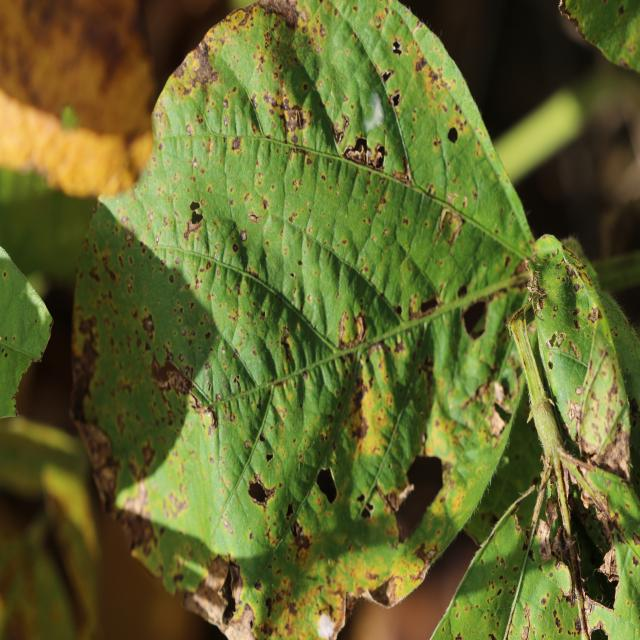Bacterial_Blight: (145, 353, 197, 409), (464, 287, 514, 341), (591, 421, 632, 484), (75, 418, 114, 474), (115, 503, 154, 552), (218, 557, 242, 627), (249, 1, 302, 32), (533, 506, 561, 564), (343, 135, 384, 170), (322, 592, 353, 637), (366, 574, 403, 609), (434, 206, 461, 248), (161, 485, 190, 521), (338, 314, 366, 351), (191, 45, 216, 85), (247, 475, 277, 508), (531, 233, 565, 261), (557, 0, 582, 38), (281, 100, 306, 137), (315, 466, 338, 504), (289, 519, 311, 558), (527, 395, 556, 423), (598, 544, 619, 582), (376, 483, 401, 514), (413, 542, 439, 568), (488, 404, 507, 438), (279, 329, 295, 366), (334, 114, 351, 146), (520, 601, 533, 640), (418, 294, 439, 317), (184, 217, 204, 240), (140, 439, 156, 467), (358, 493, 375, 519), (566, 399, 582, 424), (492, 381, 507, 406), (141, 313, 155, 339), (547, 331, 566, 349), (590, 618, 607, 633), (221, 515, 235, 533), (388, 89, 401, 107), (415, 55, 428, 72), (587, 306, 599, 324), (381, 69, 394, 85), (447, 127, 459, 144), (553, 612, 562, 634), (457, 284, 468, 299), (392, 39, 402, 55), (231, 137, 241, 151), (526, 410, 535, 425), (248, 213, 259, 224), (190, 201, 201, 212), (265, 452, 274, 463), (262, 197, 269, 210), (574, 386, 583, 396), (240, 230, 247, 242), (186, 124, 193, 136), (618, 4, 625, 15), (244, 440, 251, 450), (558, 0, 565, 10), (547, 361, 554, 370), (232, 244, 239, 253), (488, 633, 497, 640), (13, 404, 18, 415), (636, 555, 640, 567), (541, 597, 547, 605), (553, 305, 558, 313), (3, 271, 7, 278), (4, 350, 8, 357), (4, 336, 8, 342)
Soybean: (71, 0, 640, 640)
